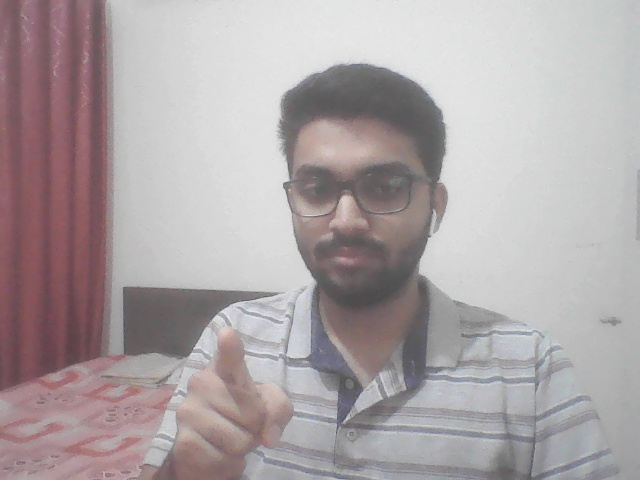you: (140, 311, 317, 480)
